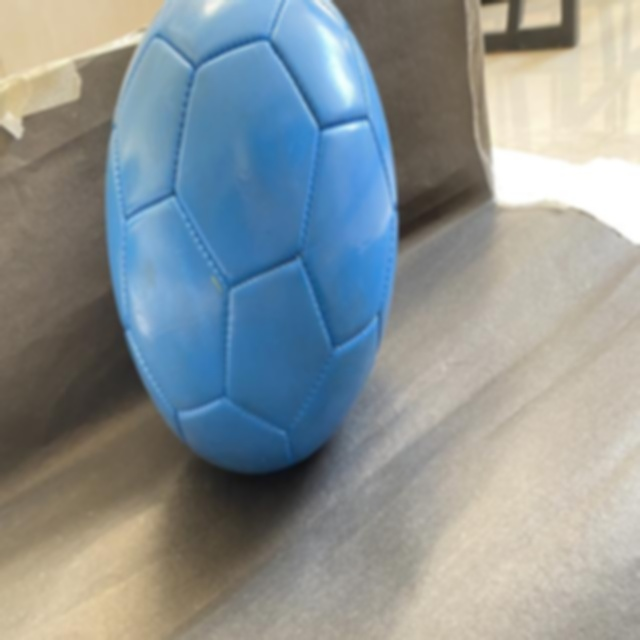blue_ball: (105, 0, 394, 476)
